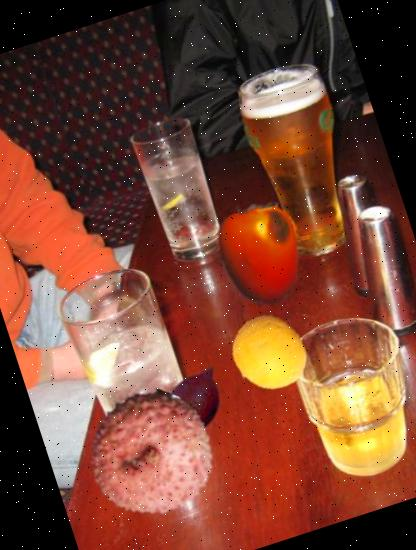Cantaloupe: (221, 305, 318, 402)
Kaki: (190, 186, 324, 320)
Lychee: (72, 374, 233, 534)
Salak: (136, 348, 250, 463)
